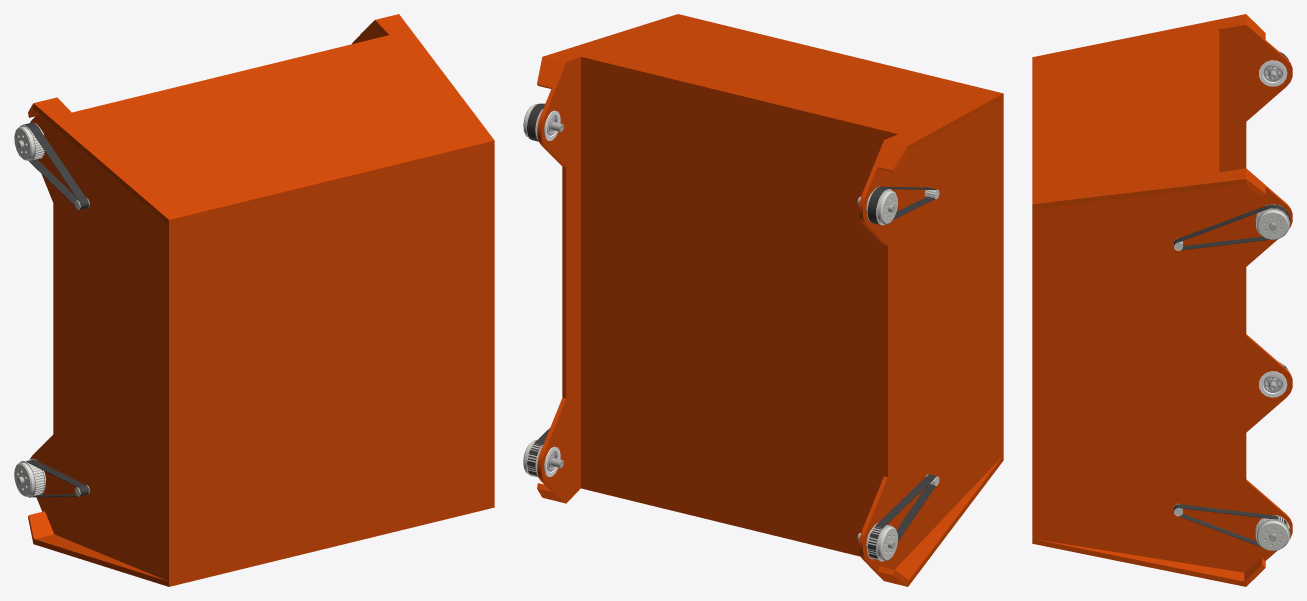
File: robot_body.obj
3 views of the same model, side by side, from view 1: azimuth 30°, elevation 25°; view 2: azimuth 150°, elevation 25°; view 3: azimuth 270°, elevation 25° (orthographic). The views are drawn at different scales.
Parts seen in each view (by area): view 1: Robot_v1_simple_body_only; view 2: Robot_v1_simple_body_only; view 3: Robot_v1_simple_body_only.
Boxes of the visible parts, x1,y1,x2,y2 form: Robot_v1_simple_body_only: (14, 14, 494, 586); Robot_v1_simple_body_only: (523, 14, 1003, 586); Robot_v1_simple_body_only: (1032, 14, 1292, 586).
Bounding box in the file's own units: 0.73 × 0.8411 × 0.487.
